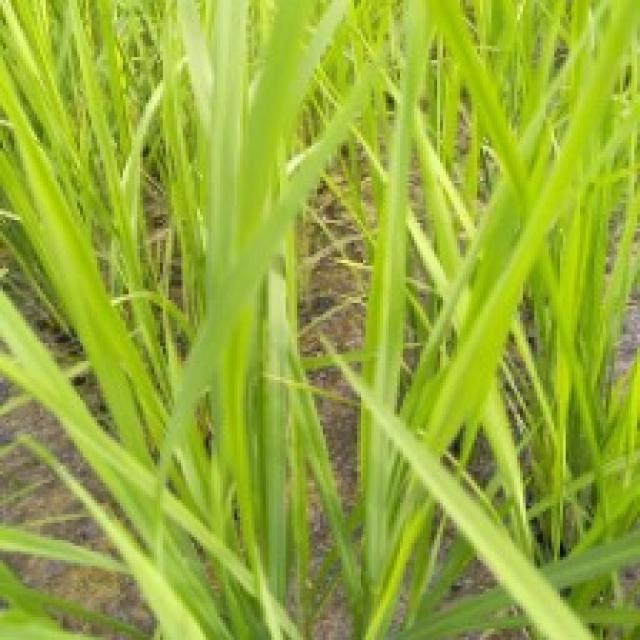Healthy-Plant: (416, 7, 640, 632), (0, 0, 150, 640), (170, 0, 311, 640), (351, 3, 412, 637)
